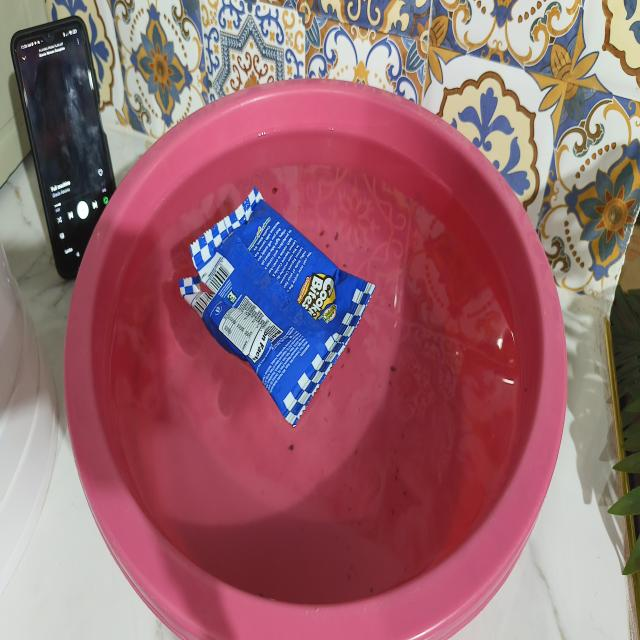Plastic Wrapper: (180, 188, 375, 427)
